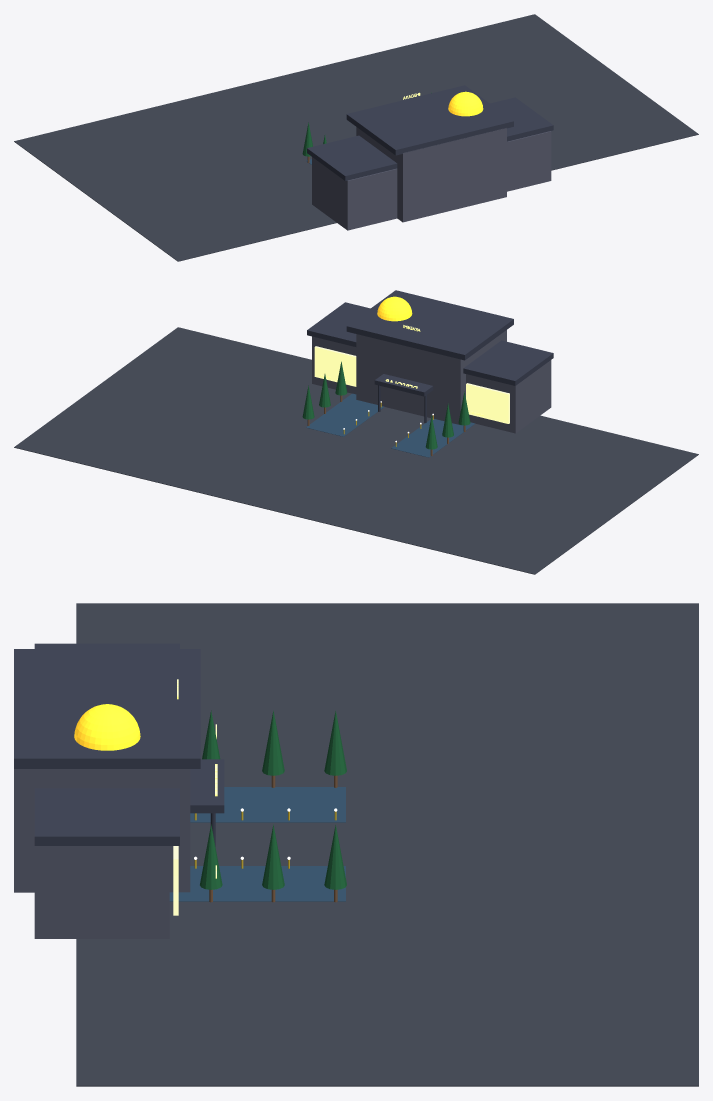
The model's file is dersolab-building.glb.
The picture shows the model from 3 angles, top to bottom: view 1: azimuth 30°, elevation 25°; view 2: azimuth 150°, elevation 25°; view 3: azimuth 270°, elevation 25°; orthographic projection. The views are drawn at different scales.
Parts seen in each view (by area): view 1: Ground, MainTower, RoofCrown, LeftWing, LeftRoof, RightWing, RightRoof, Dome; view 2: Ground, MainTower, RoofCrown, LeftWing, LeftRoof, PoolR, RightRoof, GlassLeft, GlassRight, PoolL, RightWing, Canopy (+1 smaller); view 3: Ground, RoofCrown, RightWing, RightRoof, MainTower, PoolL, PoolR, Dome, Canopy, LeftRoof, Fo-1314, Fo1314 (+3 smaller).
Part boxes in pixels (x1,y1,x2,y2): Ground: (14,14,698,261); MainTower: (356,127,506,222); RoofCrown: (346,85,513,155); LeftWing: (312,157,397,230); LeftRoof: (307,135,397,180); RightWing: (507,131,551,191); RightRoof: (490,97,553,141); Dome: (448,91,483,116); Ground: (14,327,698,574); MainTower: (356,330,506,424); RoofCrown: (346,290,513,360); LeftWing: (466,360,551,433); LeftRoof: (463,340,553,385); PoolR: (306,393,384,436); RightRoof: (307,302,370,346); GlassLeft: (466,383,509,423); GlassRight: (314,346,356,386); PoolL: (391,418,475,457); RightWing: (312,336,356,394); Canopy: (374,374,433,396); Ground: (76,603,698,1086); RoofCrown: (14,649,200,768); RightWing: (34,846,169,938); RightRoof: (34,788,179,845); MainTower: (14,769,190,892); PoolL: (190,787,345,822); PoolR: (169,866,345,901); Dome: (74,704,140,750); Canopy: (190,759,224,813); LeftRoof: (34,643,179,648); Fo-1314: (262,710,284,775); Fo1314: (262,824,284,889).
Size of the model in its own units: 110 by 18.2 by 66.
